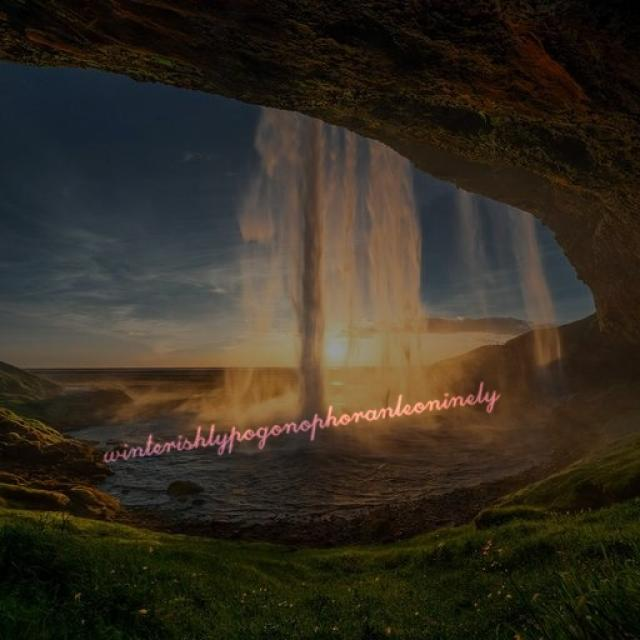watermark: (96, 377, 499, 466)
